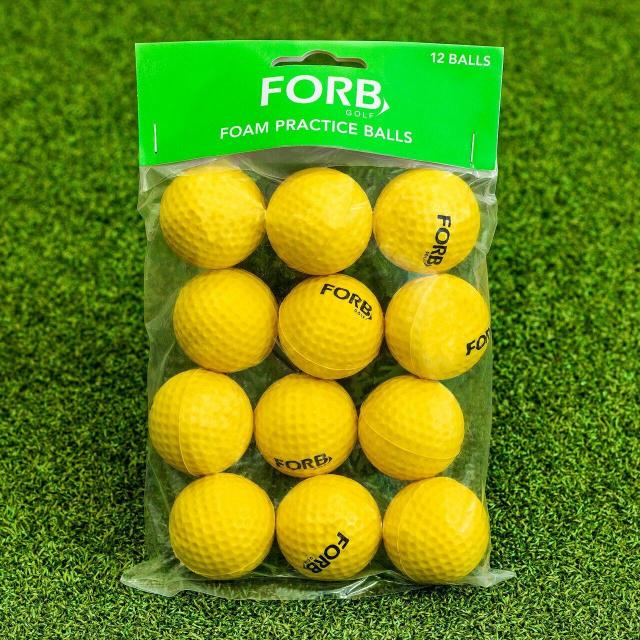ball: (151, 162, 272, 268)
